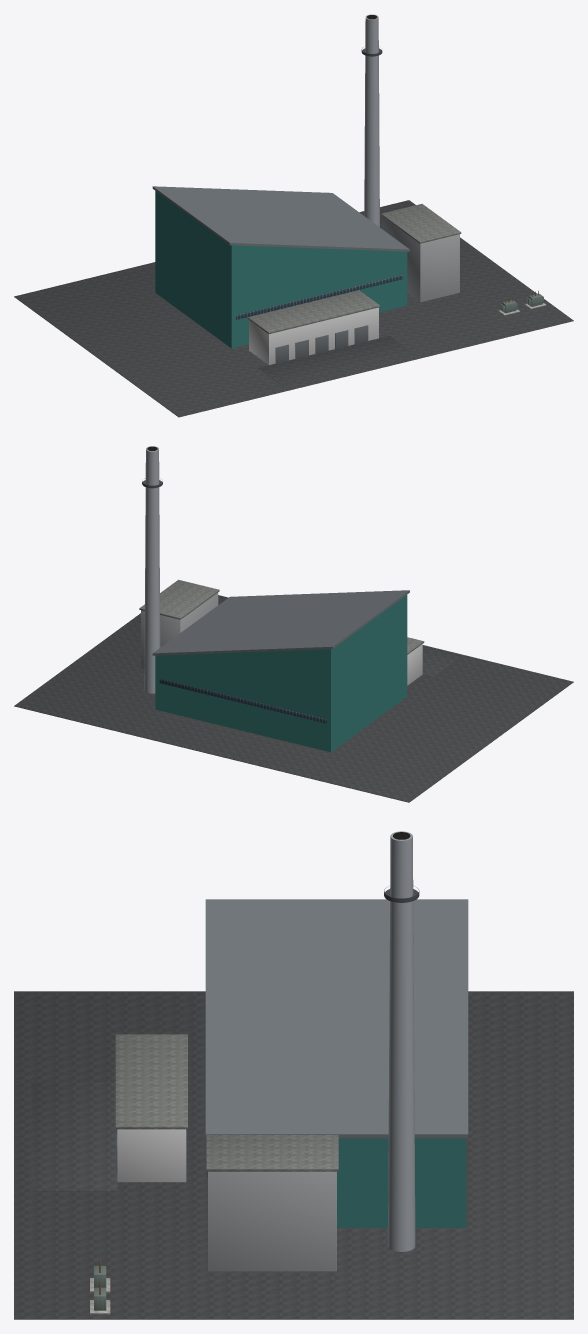
Rendered from waste-to-energy-plant.glb.
The picture shows the model from 3 angles, top to bottom: view 1: azimuth 30°, elevation 25°; view 2: azimuth 150°, elevation 25°; view 3: azimuth 270°, elevation 25°; orthographic projection. The views are drawn at different scales.
Visible parts, largest first — view 1: Waste_To_Energy_Plant; view 2: Waste_To_Energy_Plant; view 3: Waste_To_Energy_Plant.
Boxes of the visible parts, x1,y1,x2,y2 form: Waste_To_Energy_Plant: (14, 14, 573, 417); Waste_To_Energy_Plant: (14, 446, 573, 802); Waste_To_Energy_Plant: (14, 831, 573, 1319).
Bounding box in the file's own units: 180 × 105 × 130.
Materials: 14 (9 with a texture image).
